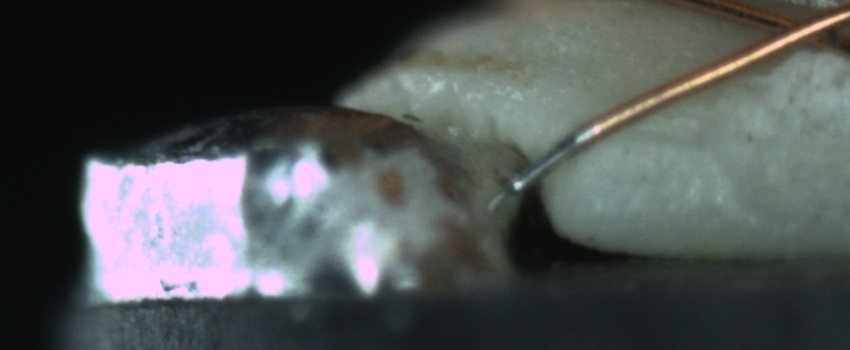CL: (743, 0, 846, 60)
DL: (595, 110, 726, 167)
TS: (512, 128, 593, 198)
